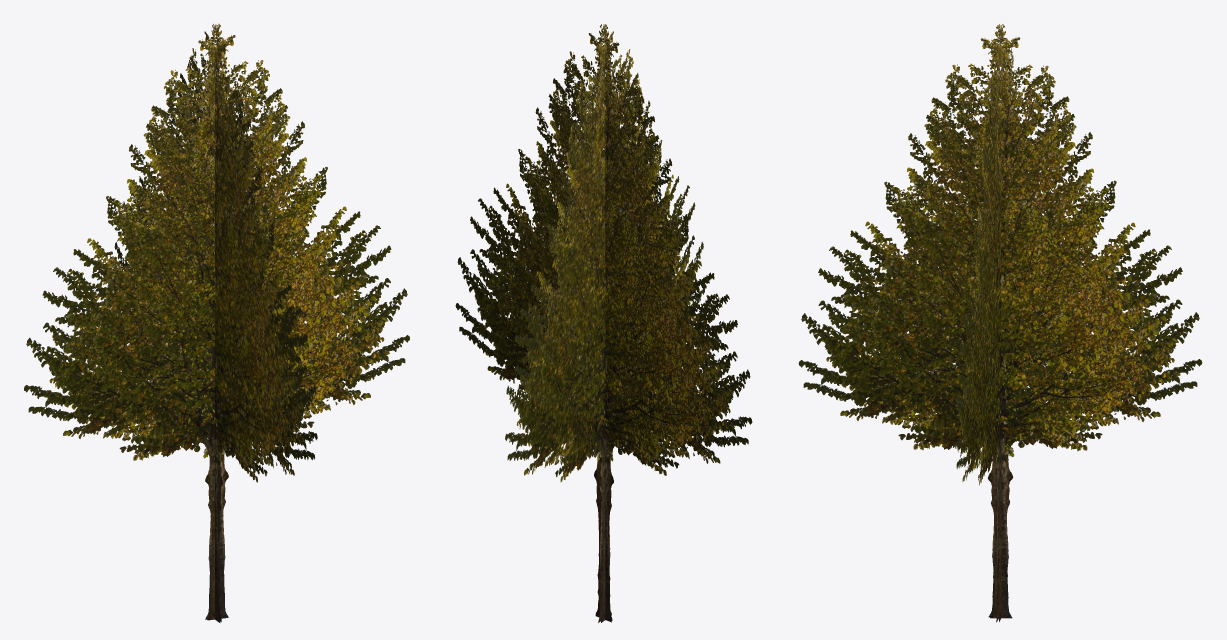
The model's file is SM_Tree_Leaves_02.fbx.
3 renders of one model, left to right at view 1: azimuth 30°, elevation 25°; view 2: azimuth 150°, elevation 25°; view 3: azimuth 270°, elevation 25°, orthographic.
Parts seen in each view (by area): view 1: SM_Tree_Leaves_02; view 2: SM_Tree_Leaves_02; view 3: SM_Tree_Leaves_02.
Part boxes in pixels (x1,y1,x2,y2): SM_Tree_Leaves_02: (24, 23, 409, 622); SM_Tree_Leaves_02: (455, 24, 752, 622); SM_Tree_Leaves_02: (798, 24, 1202, 622).
Bounding box in the file's own units: 894 × 1437 × 917.
